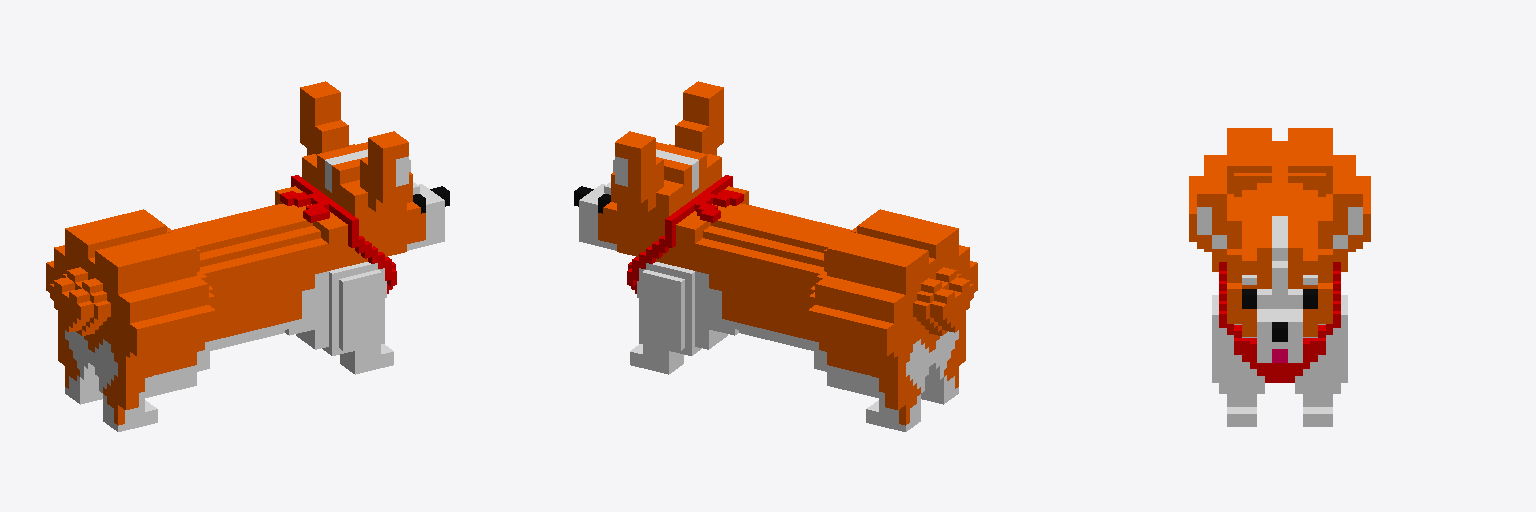
3 views of the same model, side by side, from view 1: azimuth 30°, elevation 25°; view 2: azimuth 150°, elevation 25°; view 3: azimuth 270°, elevation 25° (orthographic).
Parts seen in each view (by area): view 1: object 1; view 2: object 1; view 3: object 1.
Boxes of the visible parts, x1,y1,x2,y2 form: object 1: [46, 81, 449, 431]; object 1: [574, 81, 977, 431]; object 1: [1189, 128, 1370, 426].
Bounding box in the file's own units: 5.8 × 3.4 × 2.4.
1 materials, 1 textured.